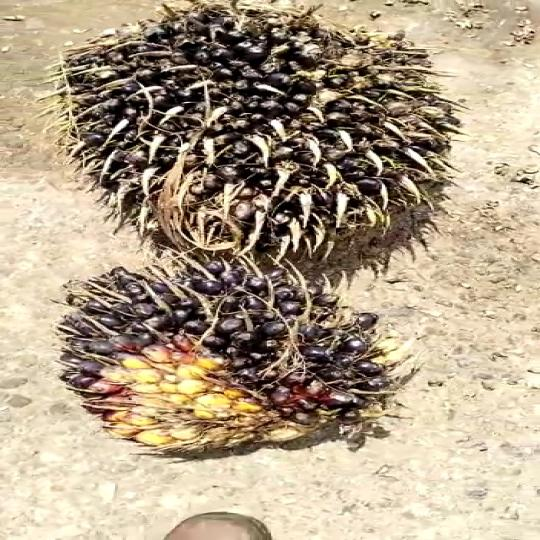mentah: (53, 2, 469, 277), (41, 266, 418, 468)
